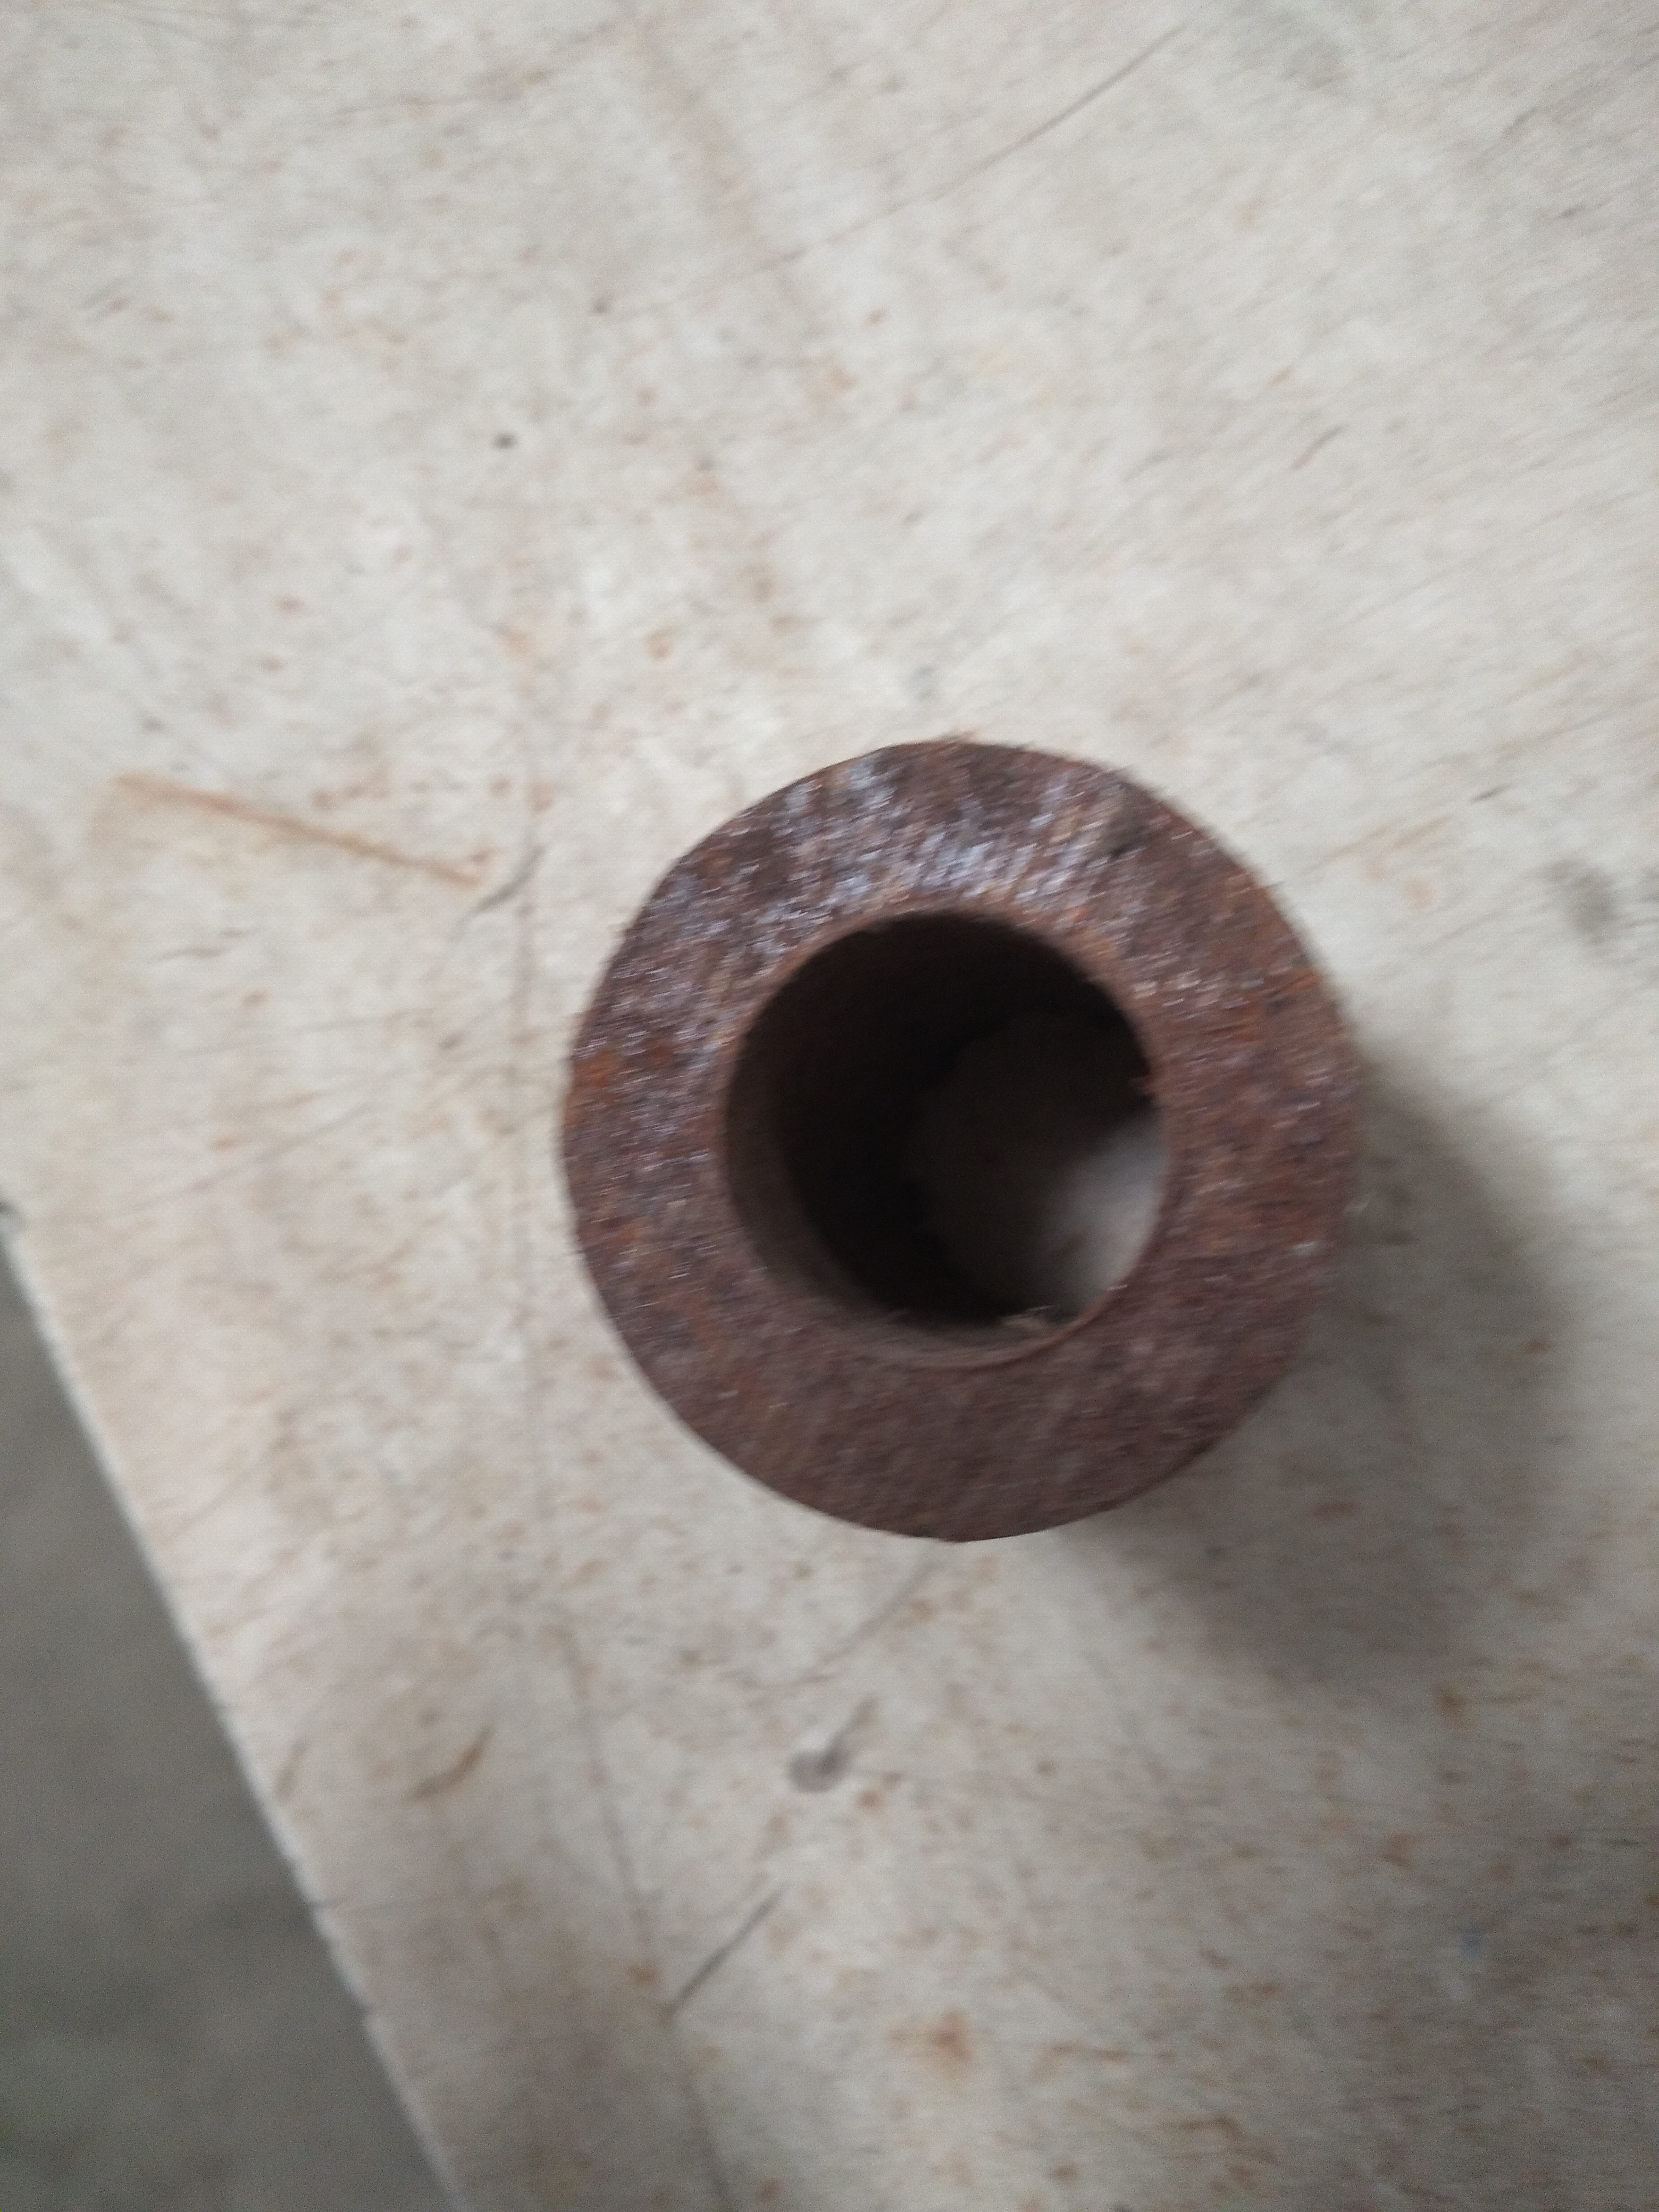No thread: (701, 883, 1251, 1414)
